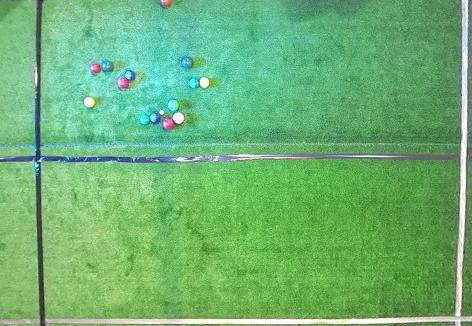blue: (125, 70, 135, 81), (150, 113, 160, 123)
green: (168, 100, 179, 111), (182, 57, 193, 68), (102, 61, 113, 72), (189, 78, 199, 88), (140, 115, 150, 124)
red: (172, 112, 184, 124), (118, 77, 129, 89), (163, 118, 175, 129), (91, 63, 101, 73), (158, 1, 172, 7)
vline: (1, 1, 47, 325), (452, 1, 471, 325)
white: (159, 110, 164, 115)
yellow: (83, 97, 95, 107), (199, 77, 209, 88)
